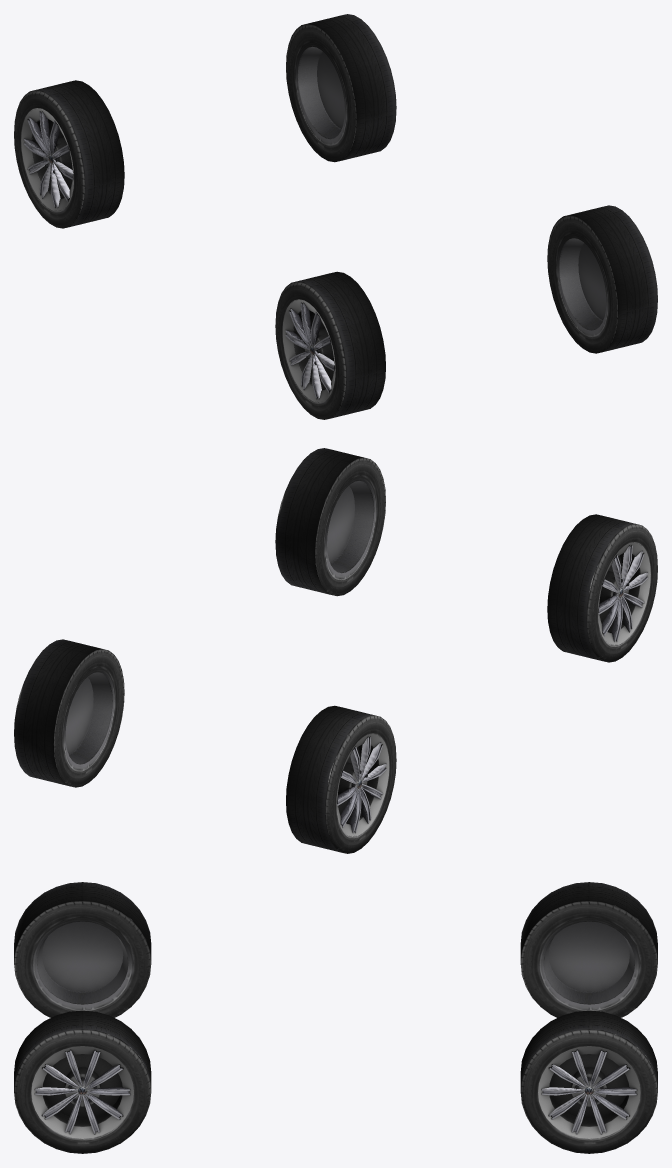
The model's file is Tchelun.FBX.
The picture shows the model from 3 angles, top to bottom: view 1: azimuth 30°, elevation 25°; view 2: azimuth 150°, elevation 25°; view 3: azimuth 270°, elevation 25°; orthographic projection. The views are drawn at different scales.
Visible parts, largest first — view 1: Cylinder071, Cylinder069, Cylinder050, Cylinder070; view 2: Cylinder050, Cylinder070, Cylinder069, Cylinder071; view 3: Cylinder071, Cylinder070, Cylinder050, Cylinder069.
Part boxes in pixels (bbox=[...]): Cylinder071: bbox=[547, 205, 657, 353]; Cylinder069: bbox=[14, 80, 124, 228]; Cylinder050: bbox=[275, 271, 385, 419]; Cylinder070: bbox=[286, 14, 396, 162]; Cylinder050: bbox=[547, 514, 657, 662]; Cylinder070: bbox=[14, 639, 124, 787]; Cylinder069: bbox=[286, 705, 396, 853]; Cylinder071: bbox=[275, 448, 385, 596]; Cylinder071: bbox=[14, 1010, 151, 1153]; Cylinder070: bbox=[520, 1010, 657, 1153]; Cylinder050: bbox=[14, 882, 151, 1017]; Cylinder069: bbox=[520, 882, 657, 1017].
Size of the model in its own units: 830 by 322 by 1508.
